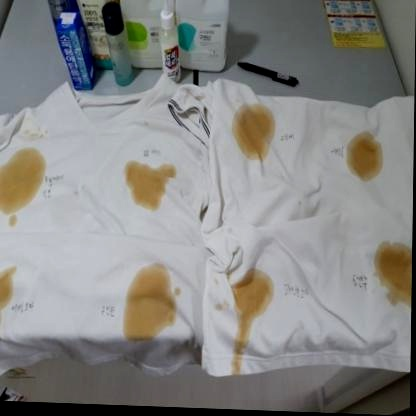coffee: (233, 106, 276, 155), (132, 273, 167, 333), (1, 155, 39, 207), (383, 247, 413, 293), (238, 276, 268, 315), (351, 137, 380, 175), (132, 166, 162, 202), (1, 271, 12, 303)
